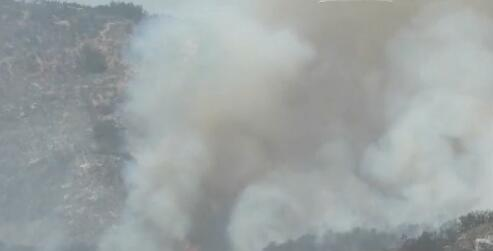yanwu: (105, 0, 493, 248)
